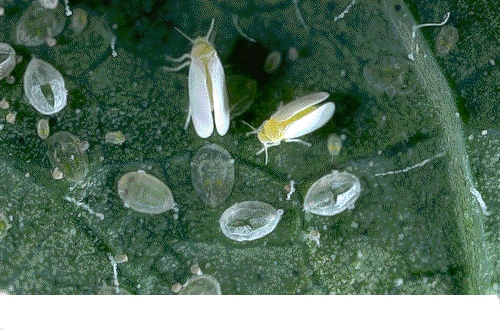whitefly: (165, 18, 231, 141), (243, 93, 337, 161)
